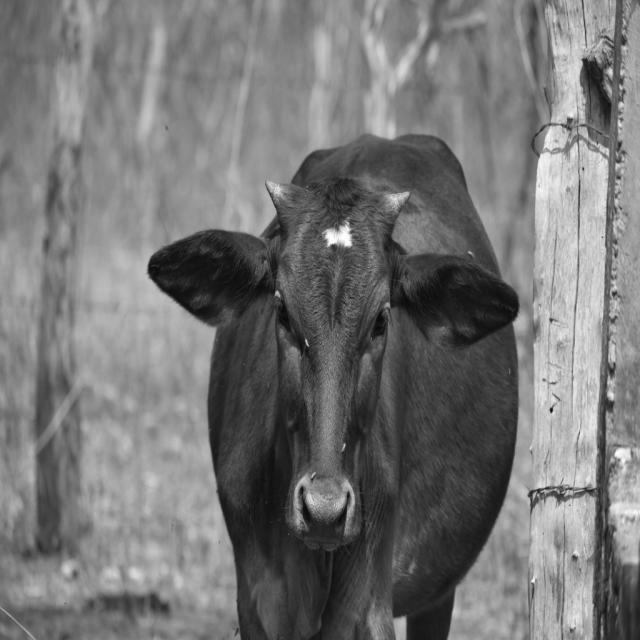cow: (149, 135, 518, 640)
